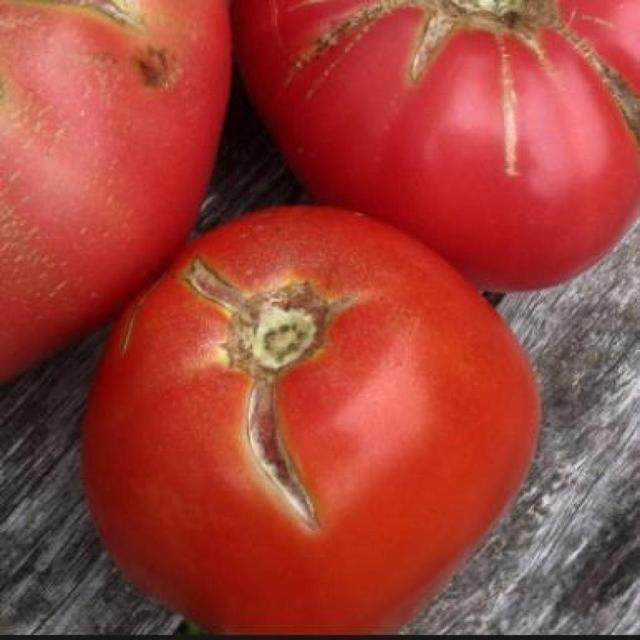Healthy Fruit: (351, 0, 425, 104)
